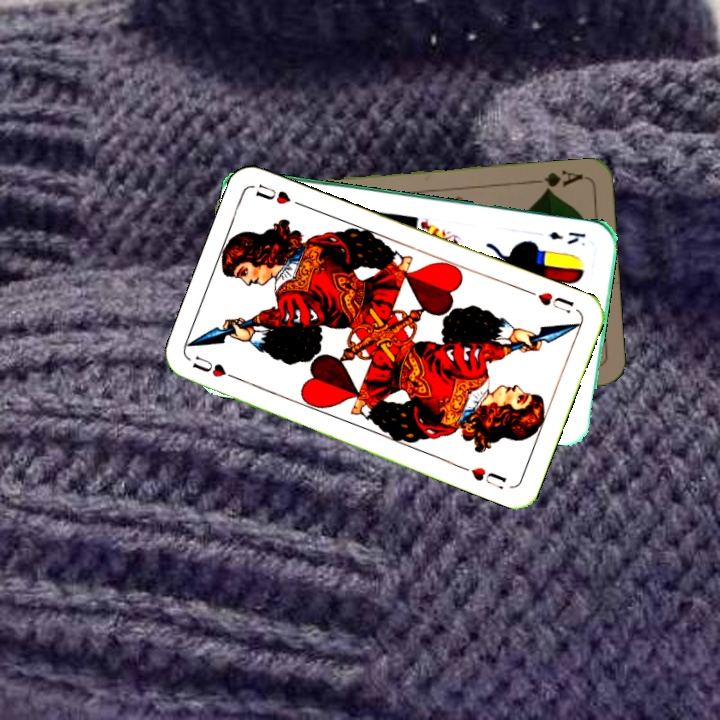EK: (545, 227, 588, 247)
GA: (528, 167, 585, 195)
HU: (188, 351, 243, 384), (523, 286, 577, 316)
